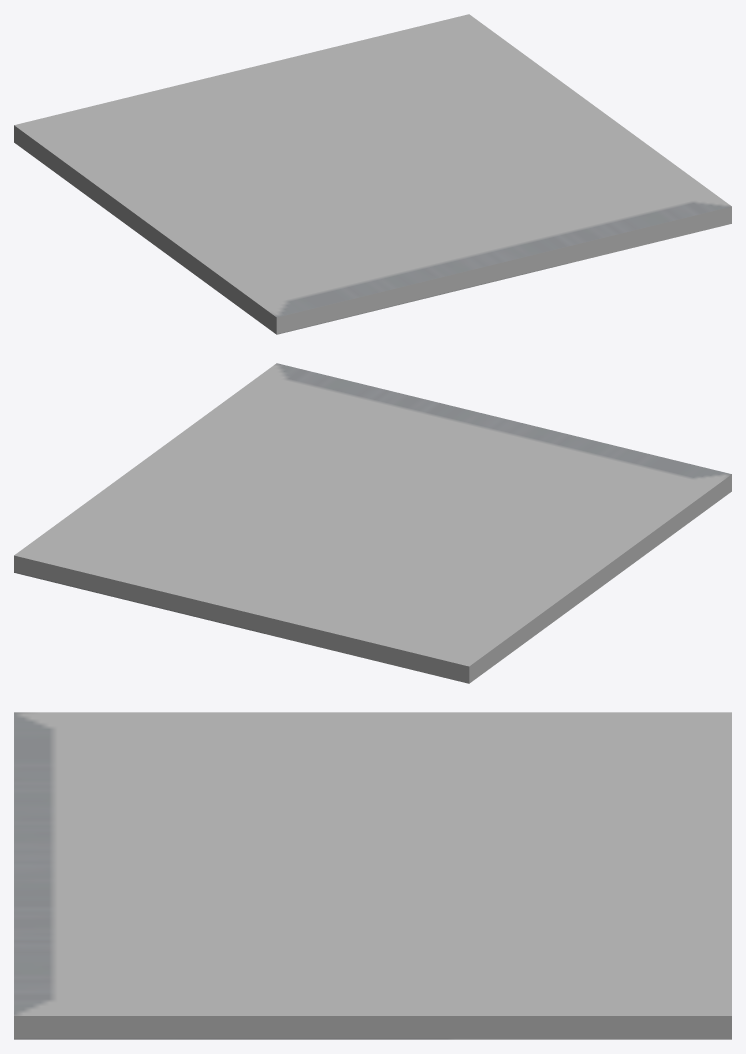
File: roof.fbx
3 renders of one model, top to bottom at view 1: azimuth 30°, elevation 25°; view 2: azimuth 150°, elevation 25°; view 3: azimuth 270°, elevation 25°, orthographic. The views are drawn at different scales.
Parts seen in each view (by area): view 1: roof17; view 2: roof17; view 3: roof17.
Part boxes in pixels (x1,y1,x2,y2): roof17: (14, 14, 731, 334); roof17: (14, 363, 731, 683); roof17: (14, 712, 731, 1039).
Size of the model in its own units: 135 by 4.88 by 135.
